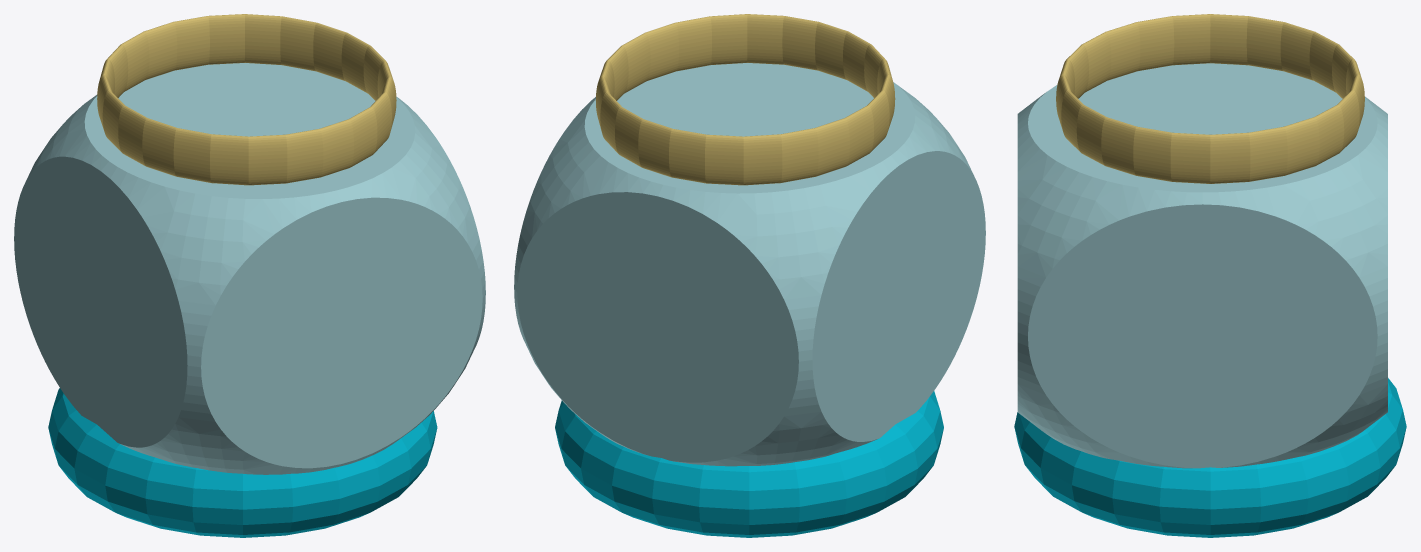
The model's file is Player.glb.
The picture shows the model from 3 angles, left to right: view 1: azimuth 30°, elevation 25°; view 2: azimuth 150°, elevation 25°; view 3: azimuth 270°, elevation 25°; orthographic projection.
Parts seen in each view (by area): view 1: Mesh_Mesh_head_geo.001_lambert2SG.001; view 2: Mesh_Mesh_head_geo.001_lambert2SG.001; view 3: Mesh_Mesh_head_geo.001_lambert2SG.001.
Part boxes in pixels (x1=…): Mesh_Mesh_head_geo.001_lambert2SG.001: x1=14, y1=14, x2=485, y2=537; Mesh_Mesh_head_geo.001_lambert2SG.001: x1=514, y1=14, x2=985, y2=537; Mesh_Mesh_head_geo.001_lambert2SG.001: x1=1014, y1=14, x2=1406, y2=537.
Bounding box in the file's own units: 50.83 × 57 × 50.83.
